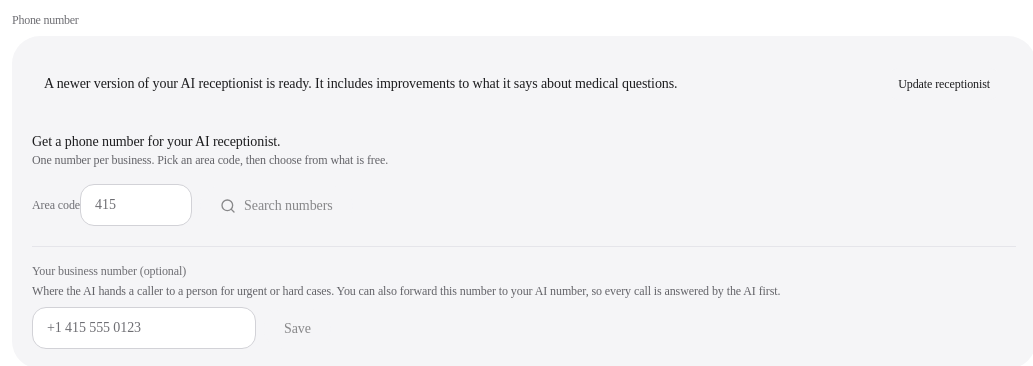
Test: updating the receptionist › offers the update only when Halla has a newer version, and does it in one click
Expected: the text "newer version of your AI receptionist is ready" is shown, [44,76,678,91]
Click the button "Update receptionist" at (944, 84), box [884,68,1004,100]
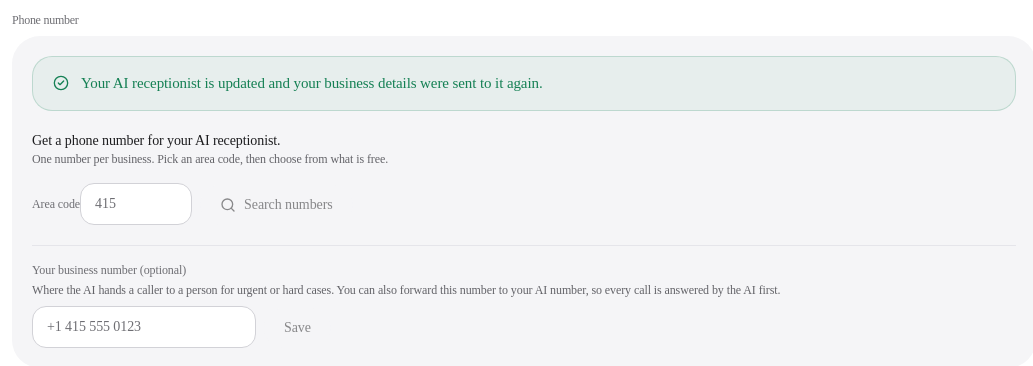
Now the text "updated and your business details were sent to it again" is shown, box [81,75,542,91]
Now the text "newer version of your AI receptionist is ready" is gone
